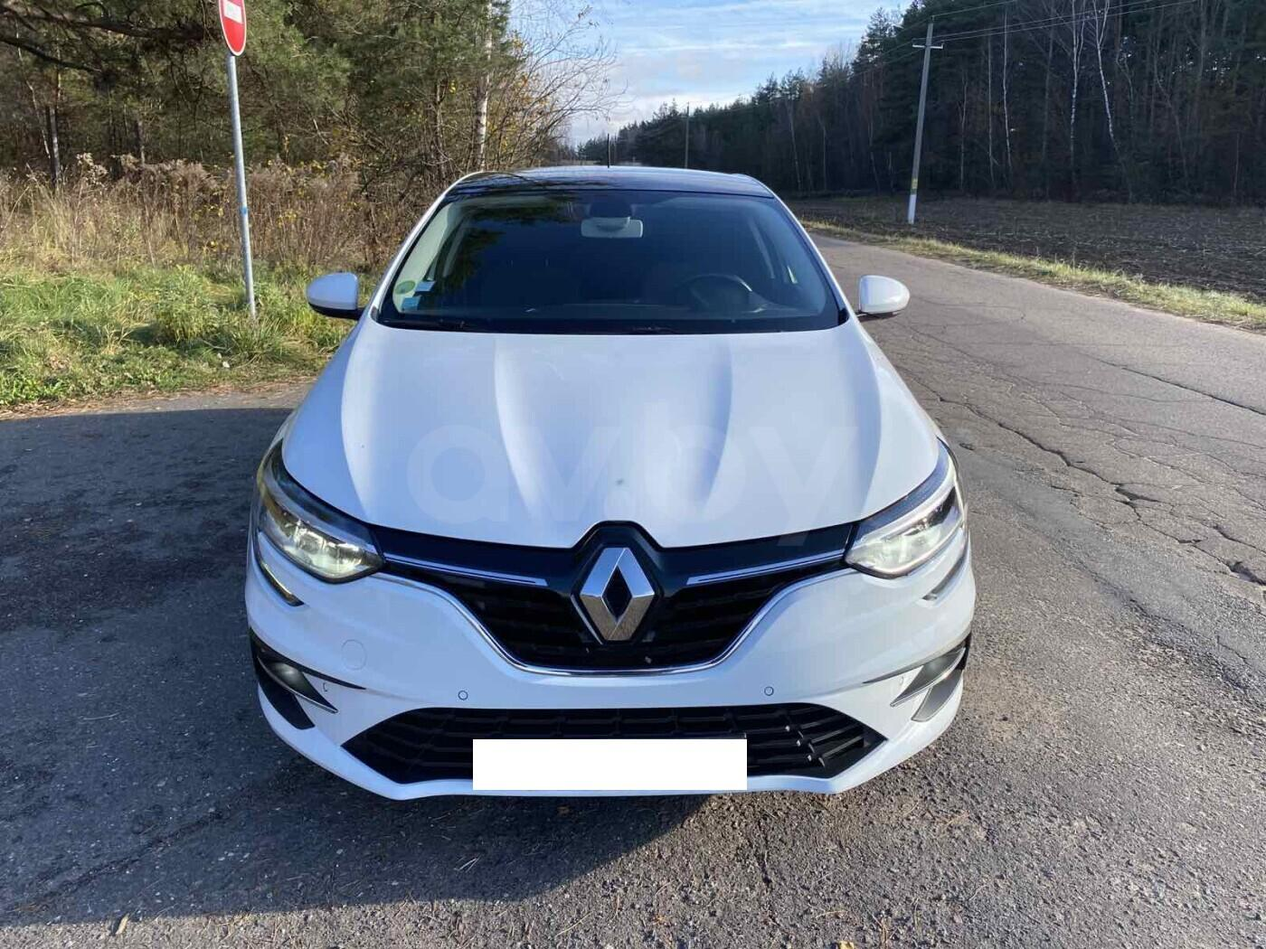Megane_2020: (222, 161, 970, 801)
